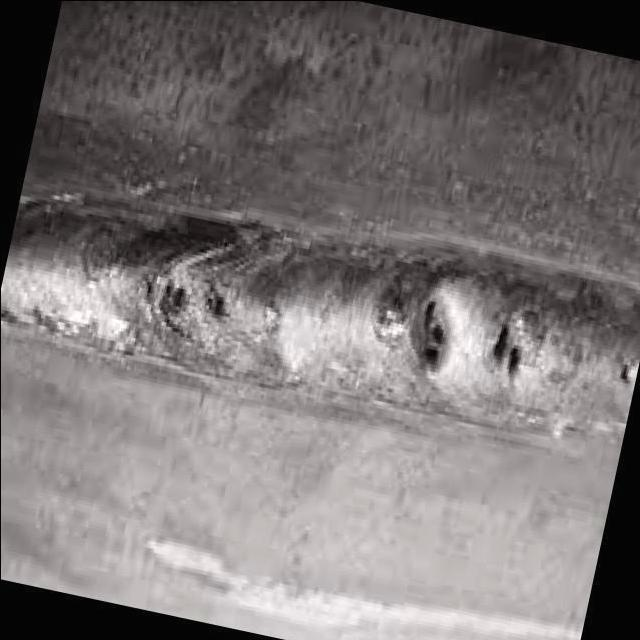defect: (414, 287, 450, 376), (137, 274, 185, 329), (487, 313, 519, 387), (195, 280, 228, 336), (612, 356, 632, 393)
